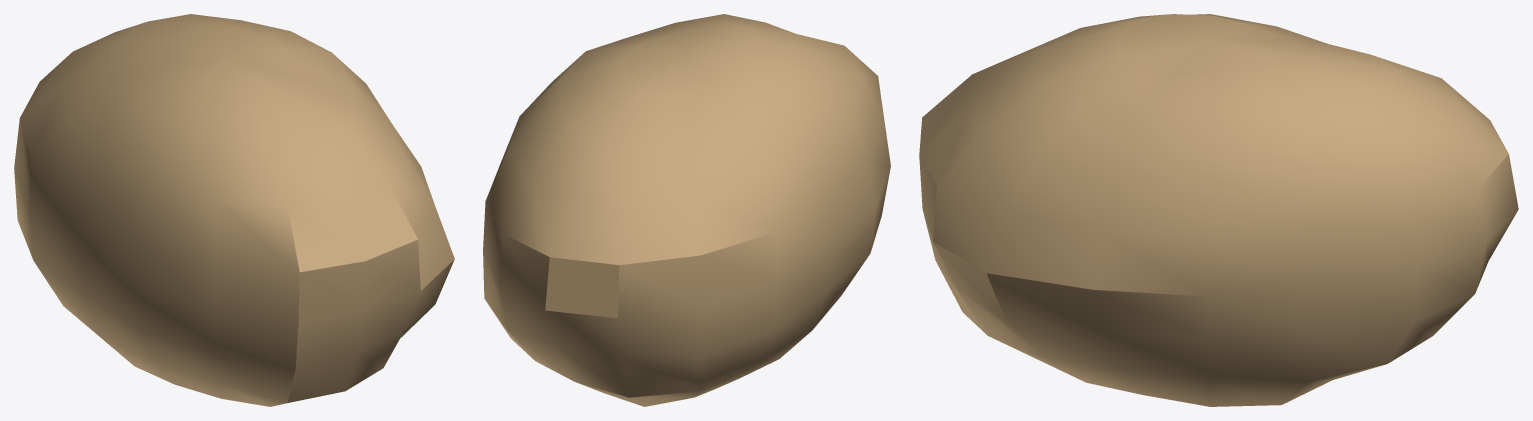
Rendered from Potato.fbx.
3 renders of one model, left to right at view 1: azimuth 30°, elevation 25°; view 2: azimuth 150°, elevation 25°; view 3: azimuth 270°, elevation 25°, orthographic. The views are drawn at different scales.
Visible parts, largest first — view 1: Potato; view 2: Potato; view 3: Potato.
Boxes of the visible parts, bbox=[...] form: Potato: bbox=[14, 14, 454, 406]; Potato: bbox=[483, 14, 890, 406]; Potato: bbox=[919, 14, 1518, 406].
Size of the model in its own units: 0.0484 by 0.0477 by 0.0734.
